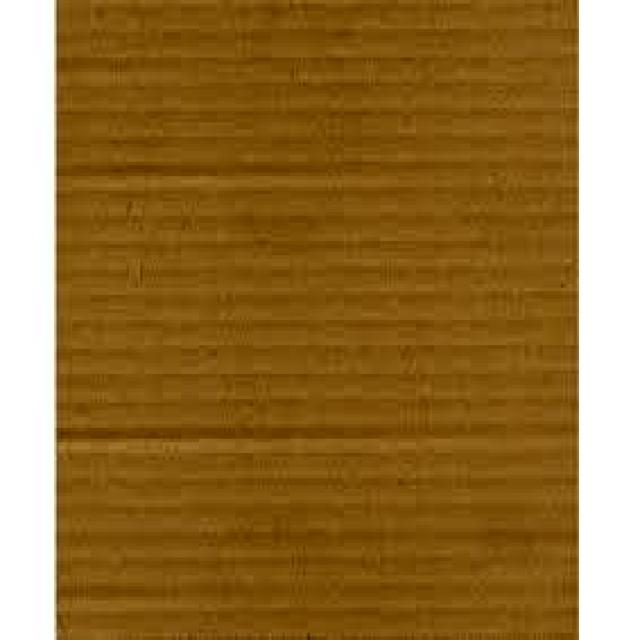Cardboard: (54, 0, 580, 640)
